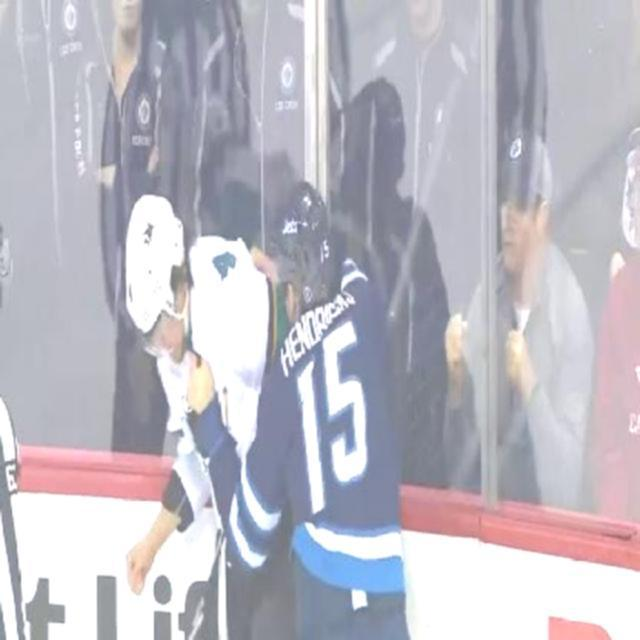fight: (119, 176, 415, 639)
